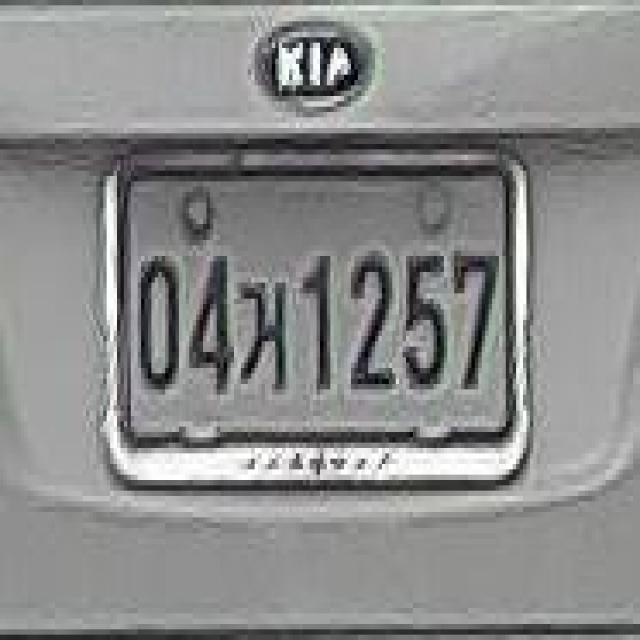illegal_plate: (106, 143, 535, 498)
